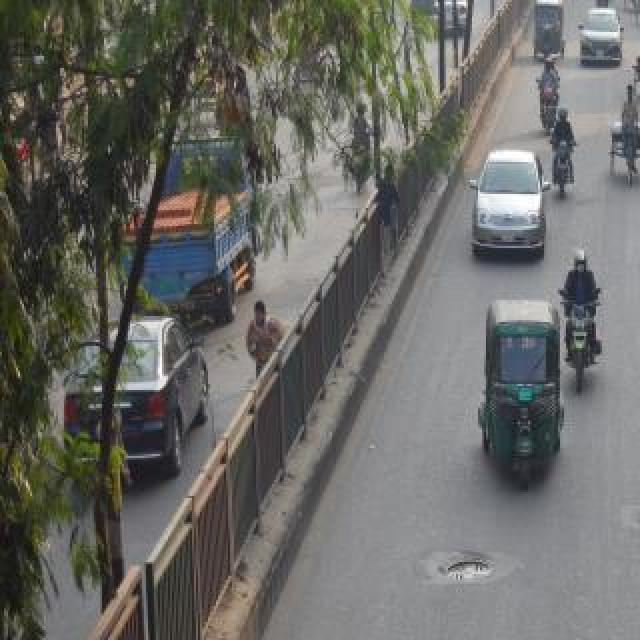car: (34, 324, 208, 478), (471, 152, 545, 254), (580, 5, 624, 73), (431, 0, 463, 32)
motorbike: (560, 260, 604, 414), (554, 111, 582, 193), (536, 61, 560, 135)
van: (102, 148, 274, 304)
